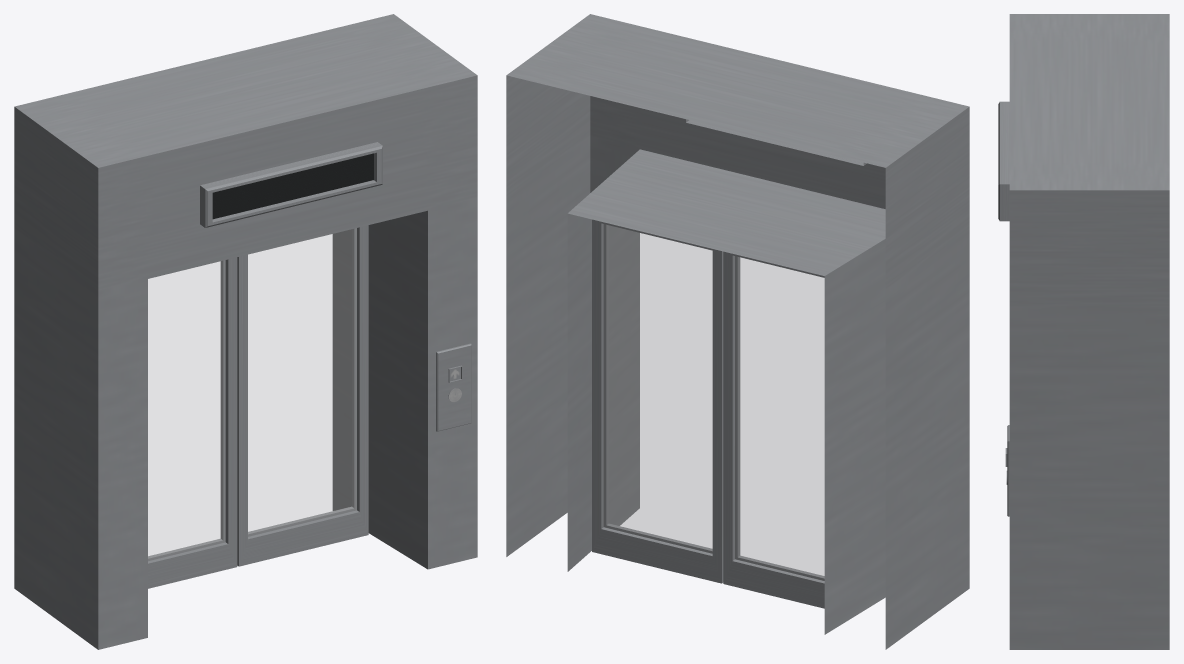
Rendered from ElevatorIP.fbx.
3 renders of one model, left to right at view 1: azimuth 30°, elevation 25°; view 2: azimuth 150°, elevation 25°; view 3: azimuth 270°, elevation 25°, orthographic. The views are drawn at different scales.
Visible parts, largest first — view 1: pCube26; view 2: pCube26; view 3: pCube26.
Boxes of the visible parts, bbox=[...] form: pCube26: bbox=[14, 14, 477, 649]; pCube26: bbox=[506, 14, 969, 649]; pCube26: bbox=[998, 14, 1169, 649].
Size of the model in its own units: 16.65 by 20.21 by 6.83.
2 materials, 1 textured.
